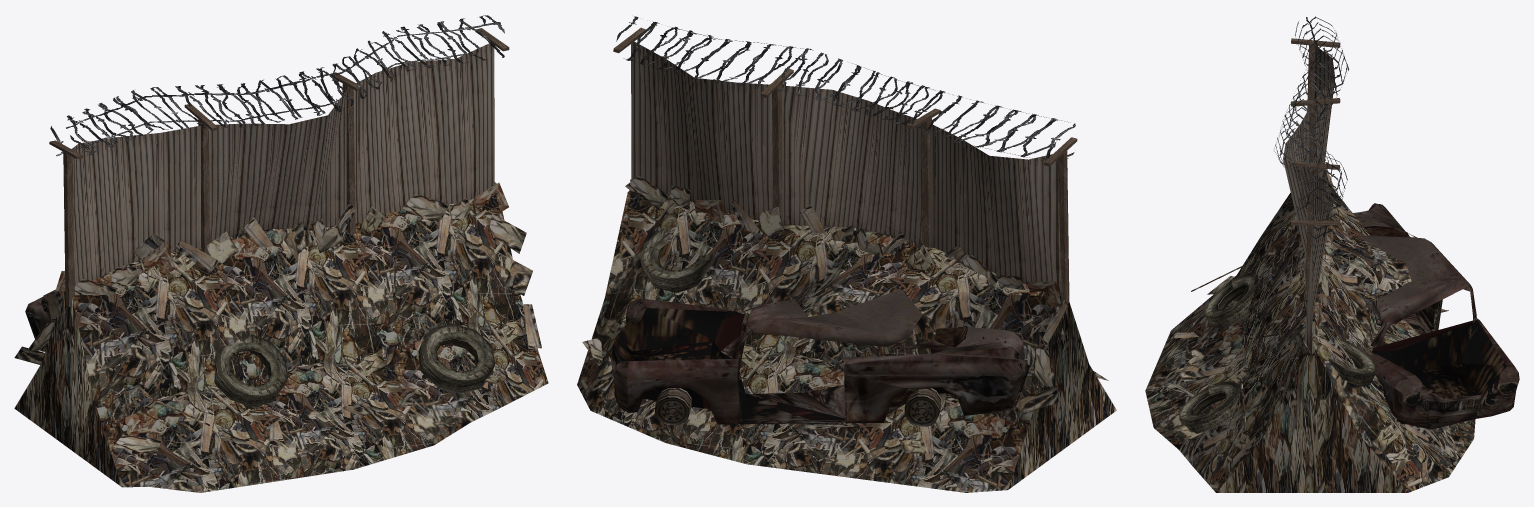
File: Baricd01.glb
3 renders of one model, left to right at view 1: azimuth 30°, elevation 25°; view 2: azimuth 150°, elevation 25°; view 3: azimuth 270°, elevation 25°, orthographic. The views are drawn at different scales.
Parts seen in each view (by area): view 1: _Baricd01; view 2: _Baricd01; view 3: _Baricd01.
Boxes of the visible parts, x1=… form: _Baricd01: x1=14, y1=15, x2=548, y2=492; _Baricd01: x1=577, y1=16, x2=1116, y2=492; _Baricd01: x1=1145, y1=16, x2=1519, y2=492.
Size of the model in its own units: 5.5 by 3.74 by 4.26.
Materials: 5 (5 with a texture image).
